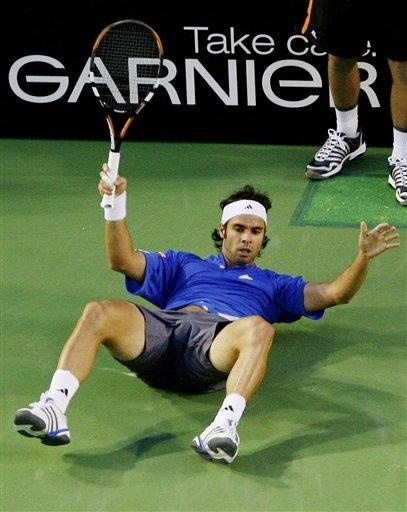falling: (9, 110, 403, 468)
